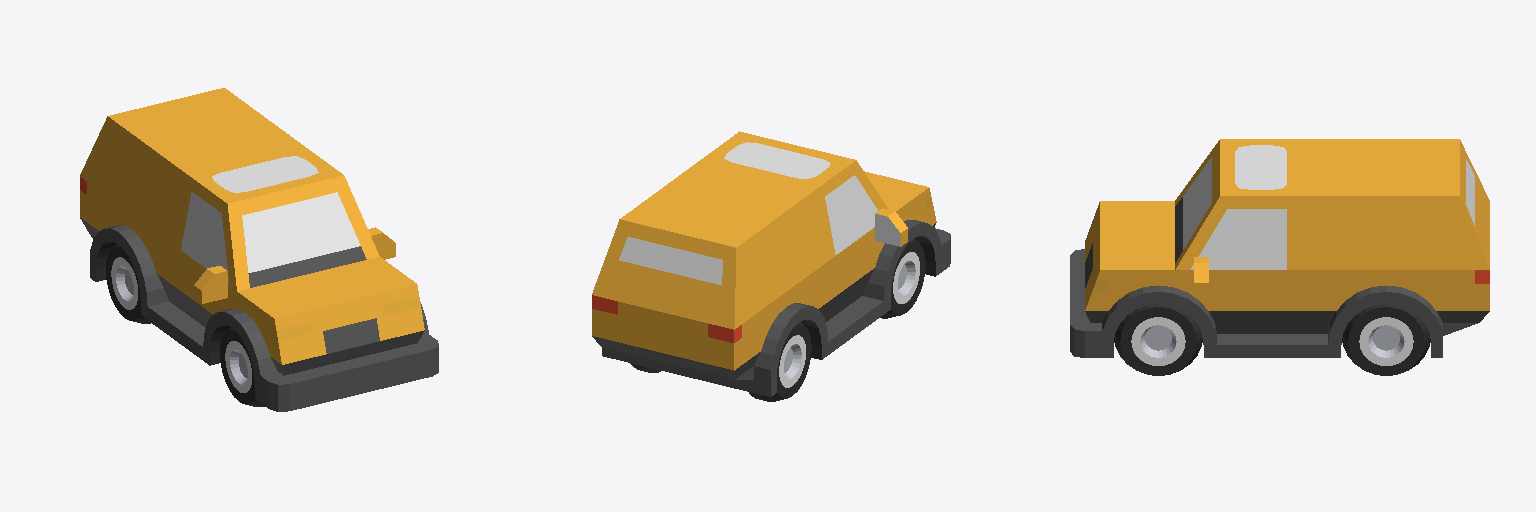
File: suvLuxury.obj
3 views of the same model, side by side, from view 1: azimuth 30°, elevation 25°; view 2: azimuth 150°, elevation 25°; view 3: azimuth 270°, elevation 25° (orthographic).
Visible parts, largest first — view 1: body, wheel_backRight, wheel_frontRight; view 2: body, wheel_backRight, wheel_frontRight; view 3: body, wheel_backLeft, wheel_frontLeft.
Part boxes in pixels (x1,y1,x2,y2): body: (80,88,438,411); wheel_backRight: (106,244,150,323); wheel_frontRight: (220,327,264,406); body: (592,131,950,396); wheel_backRight: (749,322,811,401); wheel_frontRight: (880,239,925,318); body: (1070,139,1489,357); wheel_backLeft: (1342,304,1430,375); wheel_frontLeft: (1114,304,1202,375).
Size of the model in its own units: 1.5 by 1.3 by 2.8.